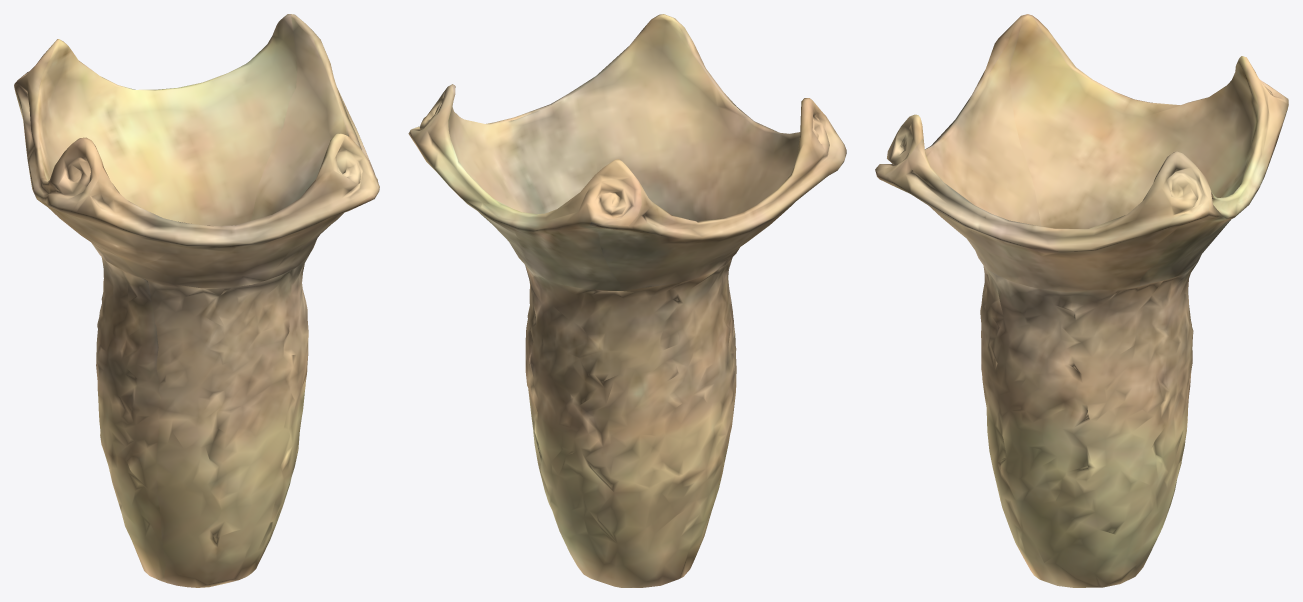
File: cma-jomon-deep-vessel.lod1.glb
The picture shows the model from 3 angles, left to right: view 1: azimuth 30°, elevation 25°; view 2: azimuth 150°, elevation 25°; view 3: azimuth 270°, elevation 25°; orthographic projection.
Visible parts, largest first — view 1: 1998.32_deep_vessel; view 2: 1998.32_deep_vessel; view 3: 1998.32_deep_vessel.
Boxes of the visible parts, box(x1,y1,x2,y2) form: 1998.32_deep_vessel: box(14, 14, 379, 587); 1998.32_deep_vessel: box(408, 14, 846, 587); 1998.32_deep_vessel: box(875, 14, 1288, 587).
Size of the model in its own units: 0.3415 by 0.4466 by 0.3477.
1 material, 1 textured.
